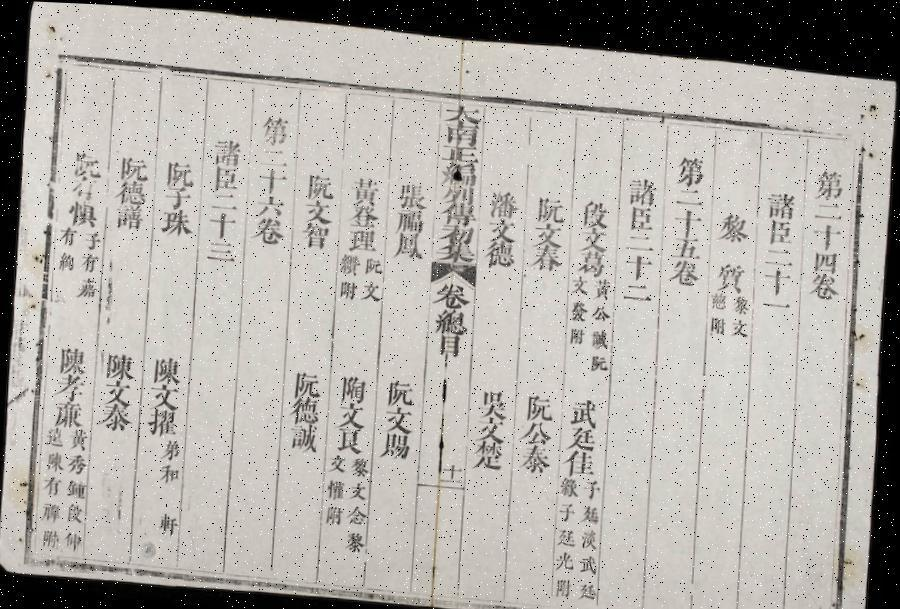c: (673, 145, 708, 181), (716, 202, 751, 237), (813, 158, 847, 193), (258, 108, 291, 144), (433, 275, 471, 306), (518, 438, 554, 470), (624, 168, 658, 201), (714, 252, 747, 286), (348, 170, 382, 203), (568, 388, 601, 422), (562, 441, 598, 472), (68, 148, 104, 179), (471, 435, 507, 466), (286, 418, 320, 450), (252, 212, 286, 244), (160, 205, 195, 236), (51, 397, 86, 428), (65, 197, 101, 227), (477, 382, 510, 414), (487, 182, 520, 214), (580, 191, 612, 224), (765, 181, 798, 213), (534, 187, 567, 219), (442, 116, 481, 143), (440, 196, 479, 223), (440, 155, 479, 182), (433, 302, 468, 332), (379, 427, 414, 457), (116, 152, 151, 182), (98, 402, 133, 432), (441, 96, 484, 120), (436, 235, 477, 260), (672, 200, 704, 232), (151, 352, 183, 384), (524, 386, 556, 418), (211, 132, 243, 164), (56, 342, 88, 374), (304, 166, 336, 198), (104, 348, 136, 380), (384, 372, 417, 403), (288, 392, 322, 422), (484, 234, 518, 264), (668, 251, 702, 281), (395, 176, 429, 206), (529, 238, 563, 268), (146, 406, 180, 436), (575, 242, 609, 272), (810, 212, 844, 242), (255, 163, 290, 192), (299, 217, 331, 248), (622, 245, 654, 276), (164, 155, 196, 186), (207, 207, 239, 238), (392, 227, 425, 257), (114, 177, 149, 205), (53, 372, 88, 400), (292, 365, 323, 396), (762, 258, 794, 288), (101, 376, 133, 406), (338, 368, 368, 400), (113, 201, 146, 230), (383, 401, 415, 430), (764, 210, 796, 239), (808, 263, 840, 292), (148, 381, 181, 409), (345, 223, 379, 250), (335, 422, 366, 451), (336, 397, 367, 426), (626, 198, 657, 227), (210, 161, 241, 190), (438, 219, 477, 242), (520, 414, 552, 442), (302, 194, 334, 222), (347, 200, 381, 226), (475, 411, 507, 438), (395, 204, 427, 231), (532, 215, 564, 242), (486, 211, 518, 238), (578, 220, 610, 247), (566, 418, 598, 445), (669, 228, 702, 254), (254, 190, 288, 215), (440, 179, 478, 201), (439, 140, 480, 160), (810, 240, 841, 266), (162, 182, 193, 208), (205, 237, 237, 262), (68, 174, 100, 199), (811, 192, 845, 215), (763, 237, 795, 261), (622, 275, 654, 299), (436, 329, 464, 355), (673, 179, 705, 201), (759, 288, 794, 308), (258, 142, 289, 164), (624, 226, 656, 247), (209, 188, 240, 209), (74, 274, 99, 299), (158, 434, 182, 460), (155, 508, 179, 534), (156, 460, 182, 483), (339, 248, 363, 272), (360, 275, 383, 300), (552, 568, 574, 594), (40, 499, 64, 522), (40, 524, 63, 548), (344, 525, 367, 549), (326, 474, 348, 499), (588, 321, 610, 345), (44, 448, 66, 472), (42, 472, 64, 496), (68, 426, 90, 450), (554, 542, 576, 566), (578, 544, 600, 568), (346, 499, 368, 523), (579, 519, 600, 544), (66, 476, 88, 499), (66, 451, 88, 474), (559, 470, 581, 493), (579, 495, 601, 518), (79, 249, 100, 273), (591, 271, 612, 295), (569, 293, 589, 318), (44, 424, 66, 446), (338, 274, 360, 296), (556, 520, 578, 542), (576, 573, 598, 595), (80, 227, 102, 249), (730, 310, 751, 333), (57, 248, 77, 272), (570, 268, 590, 292), (66, 500, 86, 524), (557, 494, 577, 518), (588, 347, 610, 368), (57, 224, 78, 246), (363, 251, 384, 273), (63, 528, 84, 550), (350, 451, 370, 474), (325, 499, 345, 522), (581, 470, 601, 493), (591, 297, 612, 318), (328, 448, 348, 470), (348, 476, 368, 497), (709, 283, 729, 304), (709, 307, 728, 329), (732, 286, 751, 308), (442, 456, 464, 474), (568, 320, 586, 340), (438, 472, 466, 480)
